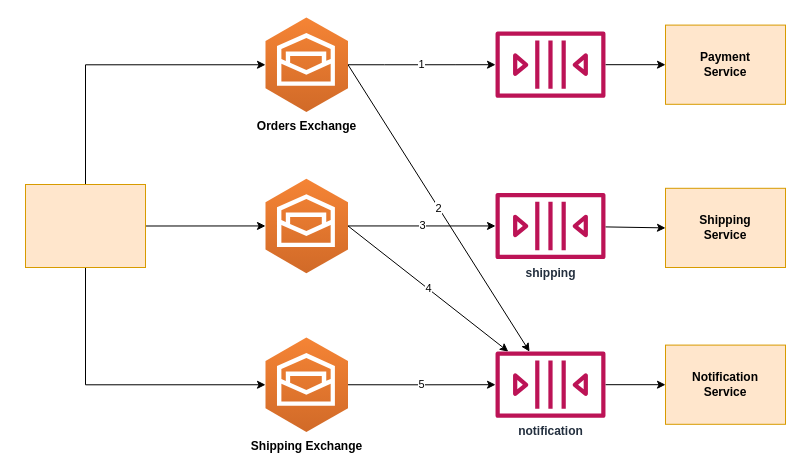
Image size: 803x470. Some labels were removed from this diagram. Here are the shapes that lost their labels. From the top down, the centre of each, then its label:
At (x=550, y=64): "payment".
At (x=85, y=226): "Order Event Service".
At (x=306, y=225): "Payment Exchange".
